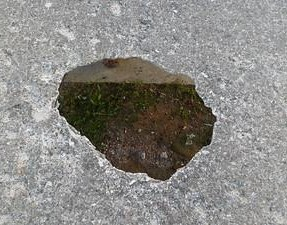Spalling: (56, 56, 218, 182)
